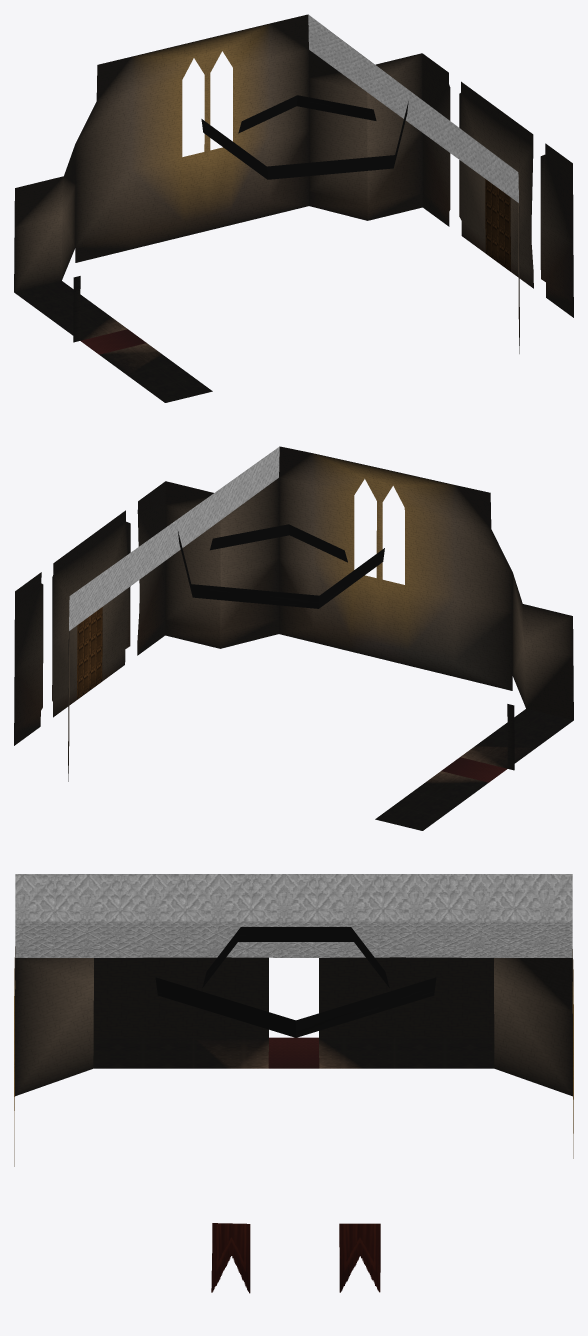
File: room.glb
3 renders of one model, top to bottom at view 1: azimuth 30°, elevation 25°; view 2: azimuth 150°, elevation 25°; view 3: azimuth 270°, elevation 25°, orthographic. The views are drawn at different scales.
Parts seen in each view (by area): view 1: environment, door; view 2: environment, door; view 3: environment, banners.
Part boxes in pixels (box(x1,y1,x2,y2)): environment: box(14, 14, 573, 402); door: box(485, 179, 510, 271); environment: box(14, 446, 573, 830); door: box(77, 607, 102, 699); environment: box(14, 874, 573, 1166); banners: box(211, 1223, 380, 1293).
Size of what is drawn, in the model's own units: 335 by 149 by 295.
Materials: 7 (7 with a texture image).
